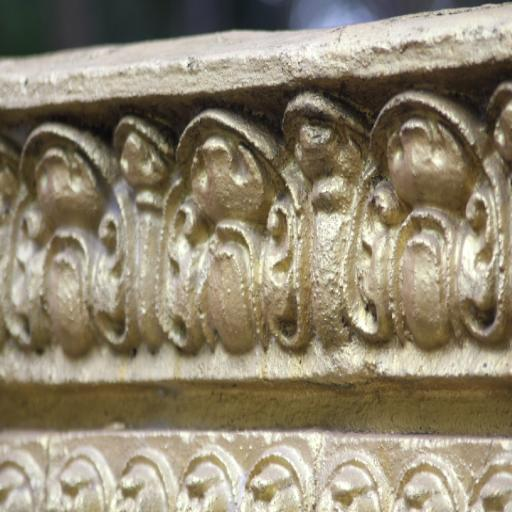la: (364, 99, 512, 343), (168, 116, 306, 350), (10, 122, 133, 358), (289, 101, 373, 350), (113, 117, 173, 357)
